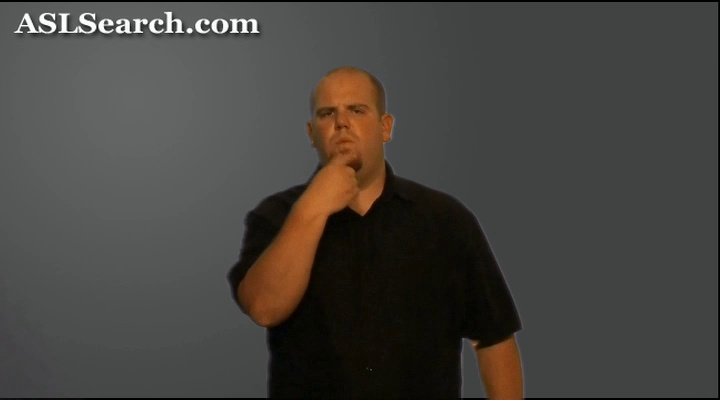who: (279, 127, 395, 222)
